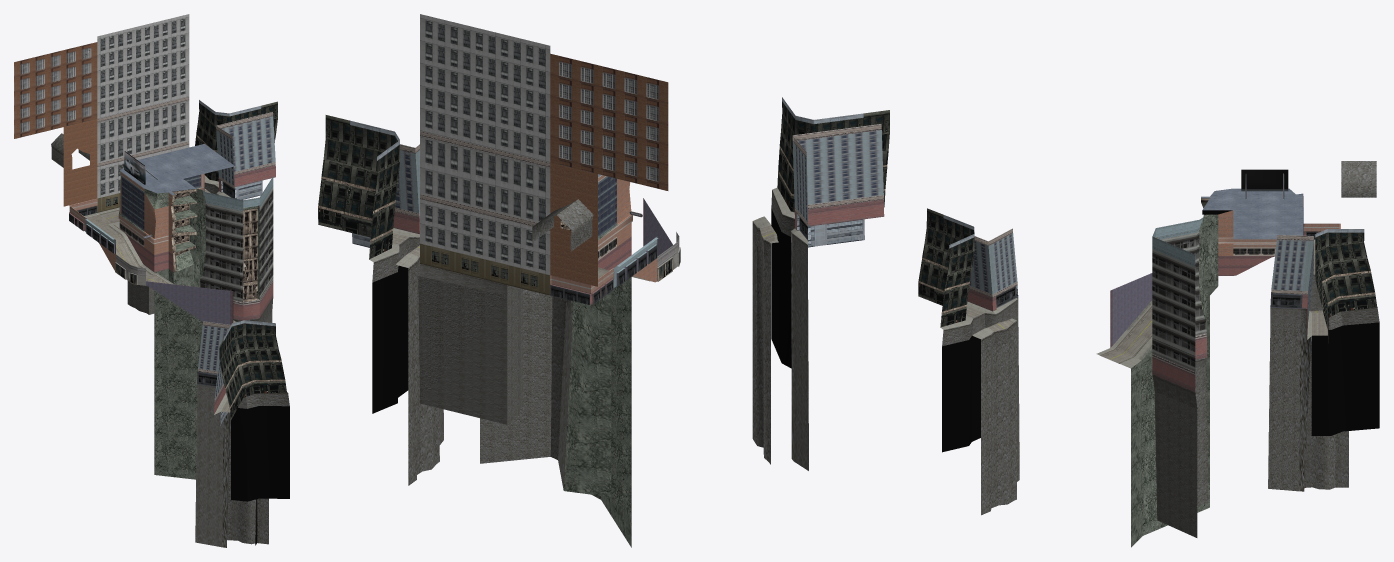
The model's file is STG0100_OS_07.fbx.
3 renders of one model, left to right at view 1: azimuth 30°, elevation 25°; view 2: azimuth 150°, elevation 25°; view 3: azimuth 270°, elevation 25°, orthographic. The views are drawn at different scales.
Parts seen in each view (by area): view 1: STG0100_OS_07_default; view 2: STG0100_OS_07_default; view 3: STG0100_OS_07_default.
Part boxes in pixels (bbox=[...]): STG0100_OS_07_default: bbox=[14, 14, 289, 547]; STG0100_OS_07_default: bbox=[318, 14, 889, 547]; STG0100_OS_07_default: bbox=[918, 161, 1379, 547].
Size of the model in its own units: 1428 by 2140 by 1972.
